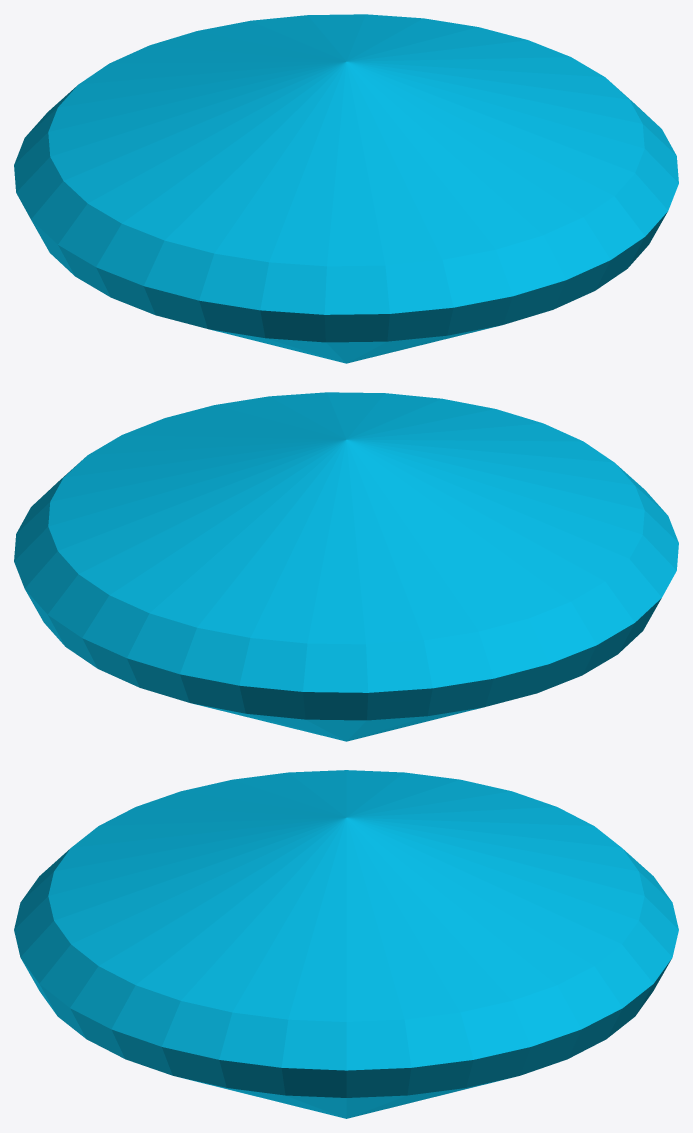
File: Crystal.fbx
The picture shows the model from 3 angles, top to bottom: view 1: azimuth 30°, elevation 25°; view 2: azimuth 150°, elevation 25°; view 3: azimuth 270°, elevation 25°; orthographic projection.
Parts seen in each view (by area): view 1: Cone; view 2: Cone; view 3: Cone.
Part boxes in pixels (x1,y1,x2,y2): Cone: (14, 14, 678, 363); Cone: (14, 392, 678, 741); Cone: (14, 770, 678, 1118).
Bounding box in the file's own units: 100 × 50 × 100.
